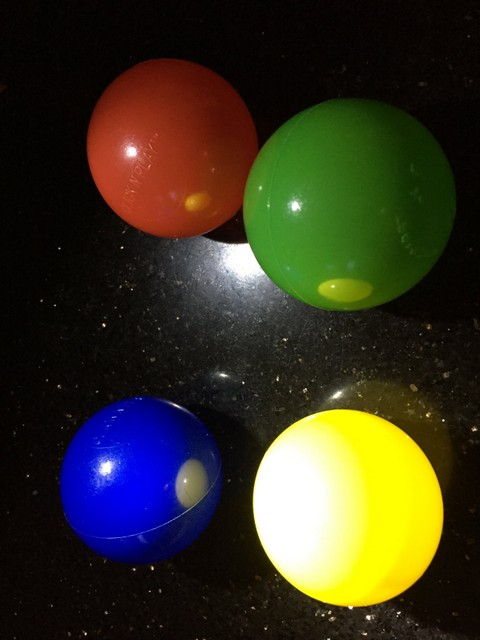ball: (251, 405, 446, 608)
